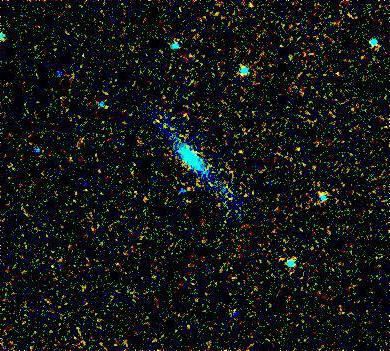star: (286, 135, 316, 165)
